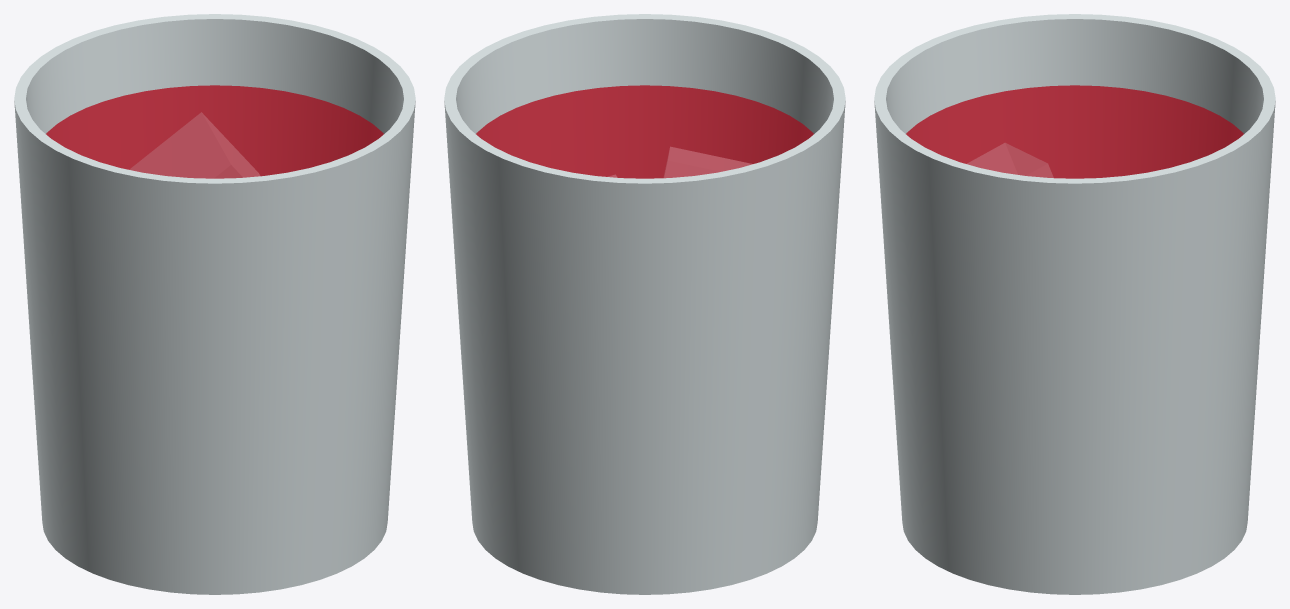
Rendered from caipirinha-vermelho.glb.
3 renders of one model, left to right at view 1: azimuth 30°, elevation 25°; view 2: azimuth 150°, elevation 25°; view 3: azimuth 270°, elevation 25°, orthographic.
Parts seen in each view (by area): view 1: caipirinha-vermelho; view 2: caipirinha-vermelho; view 3: caipirinha-vermelho.
Boxes of the visible parts, left/top/right/bottom form: caipirinha-vermelho: left=14, top=14, right=415, bottom=594; caipirinha-vermelho: left=444, top=14, right=845, bottom=594; caipirinha-vermelho: left=874, top=14, right=1275, bottom=594.
Size of the model in its own units: 0.086 by 0.1 by 0.086.
